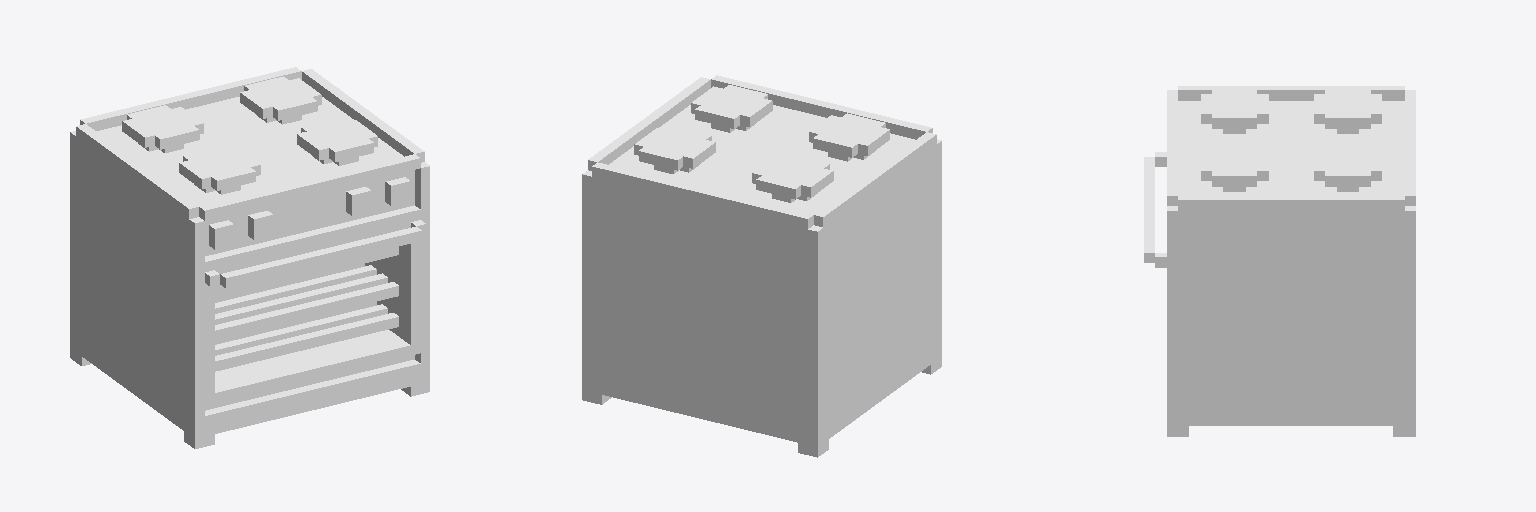
Rendered from prop_oven_glassless.obj.
3 renders of one model, left to right at view 1: azimuth 30°, elevation 25°; view 2: azimuth 150°, elevation 25°; view 3: azimuth 270°, elevation 25°, orthographic.
Visible parts, largest first — view 1: object 1; view 2: object 1; view 3: object 1.
Boxes of the visible parts, box(x1,y1,x2,y2) form: object 1: box(70, 67, 429, 448); object 1: box(582, 75, 941, 457); object 1: box(1144, 86, 1415, 436).
Bounding box in the file's own units: 2.4 × 2.4 × 2.4.